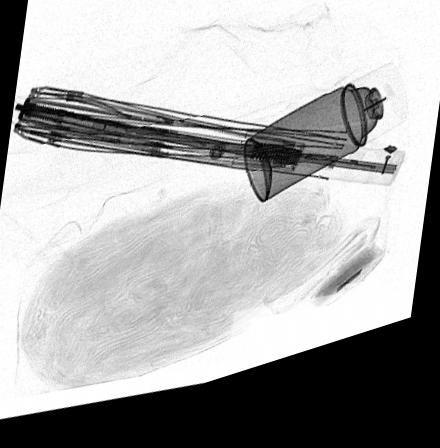Sprayer: (243, 87, 409, 219)
